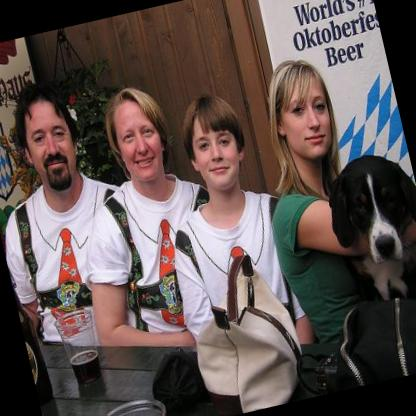Greater_Swiss_Mountain_dog: (318, 141, 416, 322)
